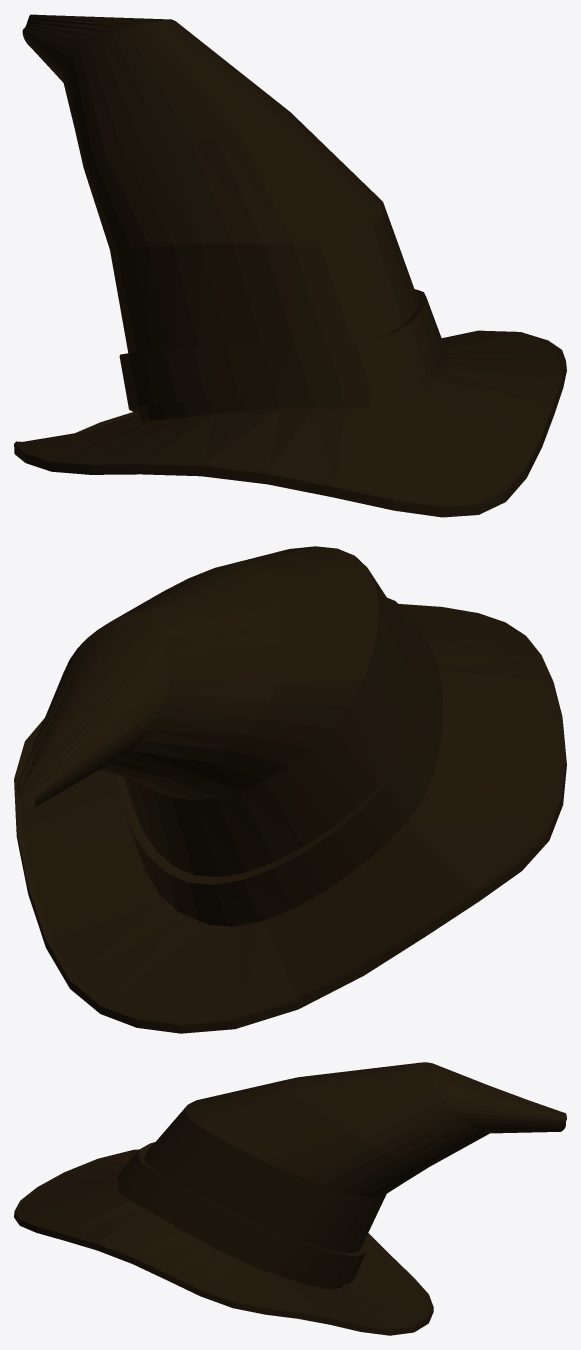
File: sombrero.fbx
3 views of the same model, one above another, from view 1: azimuth 30°, elevation 25°; view 2: azimuth 150°, elevation 25°; view 3: azimuth 270°, elevation 25° (orthographic). The views are drawn at different scales.
Parts seen in each view (by area): view 1: Cylinder; view 2: Cylinder; view 3: Cylinder.
Part boxes in pixels (<box>): Cylinder: <box>14,14,566,517</box>; Cylinder: <box>14,546,566,1033</box>; Cylinder: <box>14,1062,566,1335</box>.
Size of the model in its own units: 224 by 174 by 351.
